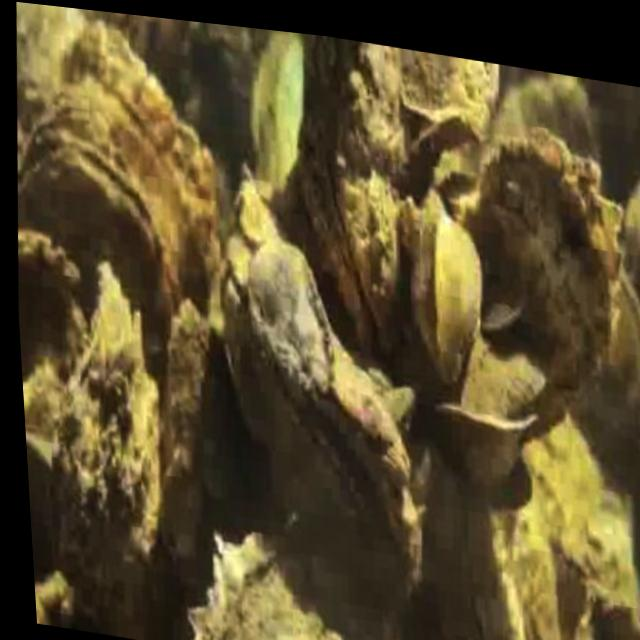Oyster-Closed: (222, 195, 424, 608), (18, 144, 177, 357), (577, 268, 640, 437)
Oyster-Indeterminate: (21, 91, 209, 316), (44, 271, 160, 608), (65, 33, 218, 265), (295, 33, 401, 357), (488, 143, 612, 388), (189, 533, 400, 640), (162, 305, 235, 558), (241, 240, 334, 394), (411, 209, 484, 384), (18, 233, 82, 374), (493, 78, 599, 160), (249, 44, 305, 194), (399, 48, 498, 124)
Oyster-Open: (401, 118, 525, 329)
